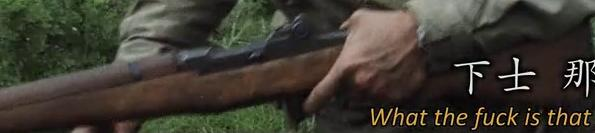gun: (1, 1, 595, 133)
